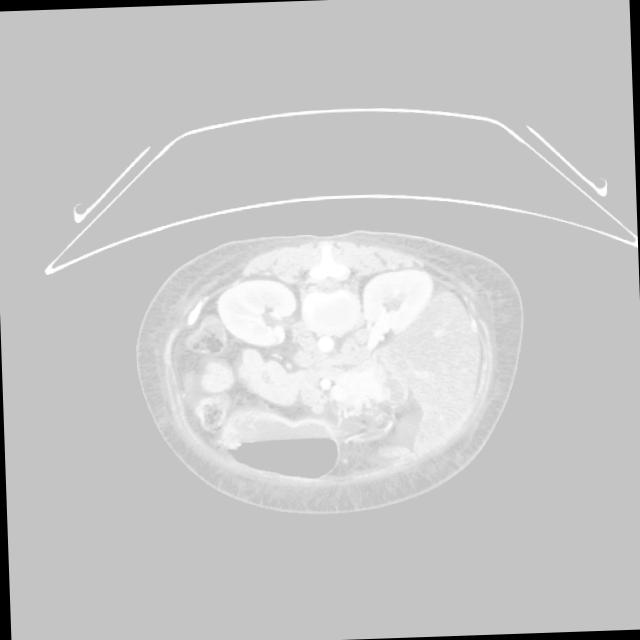NORMAL: (122, 252, 576, 527)
